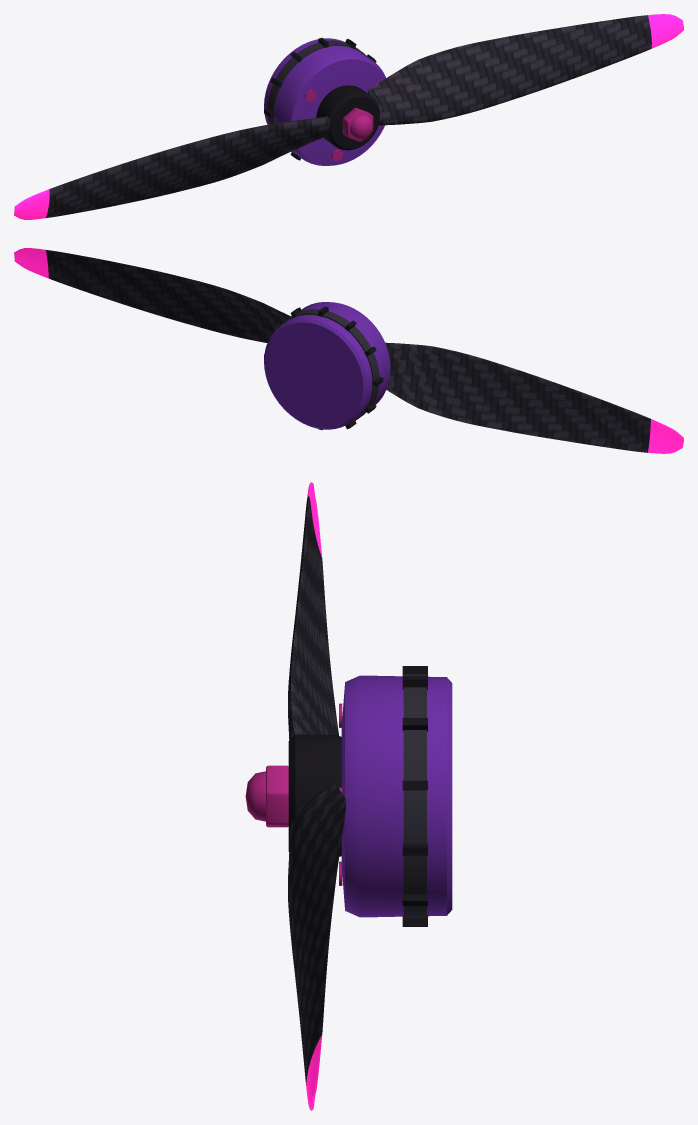
The model's file is wyvern_rotor_cw.glb.
The picture shows the model from 3 angles, top to bottom: view 1: azimuth 30°, elevation 25°; view 2: azimuth 150°, elevation 25°; view 3: azimuth 270°, elevation 25°; orthographic projection. The views are drawn at different scales.
Visible parts, largest first — view 1: wyvern_rotor_cw; view 2: wyvern_rotor_cw; view 3: wyvern_rotor_cw.
Boxes of the visible parts, box(x1,y1,x2,y2) form: wyvern_rotor_cw: box(14, 14, 683, 219); wyvern_rotor_cw: box(14, 248, 683, 453); wyvern_rotor_cw: box(245, 482, 452, 1110).
Bounding box in the file's own units: 0.2792 × 0.0472 × 0.0374.
6 materials, 1 textured.
